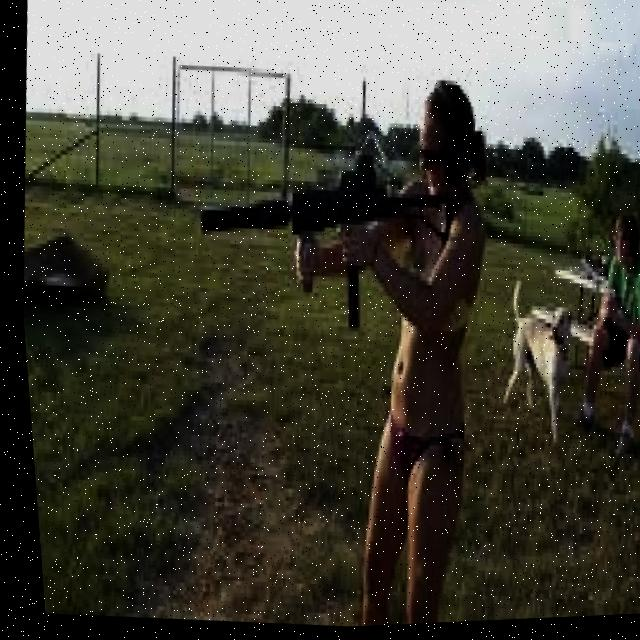firearm: (181, 134, 462, 350)
